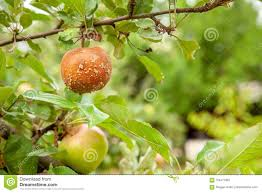apple: (63, 124, 112, 164)
damaged_apple: (61, 47, 115, 98)
